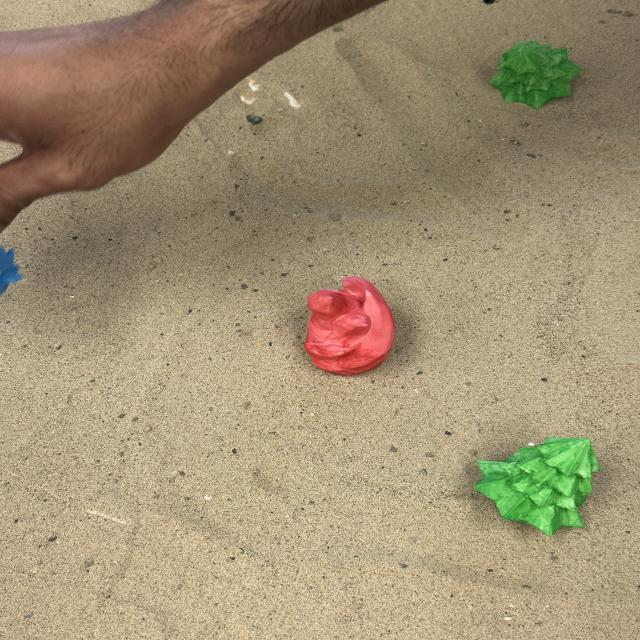fire: (302, 275, 396, 376)
tree: (472, 435, 600, 536), (488, 40, 582, 110)
